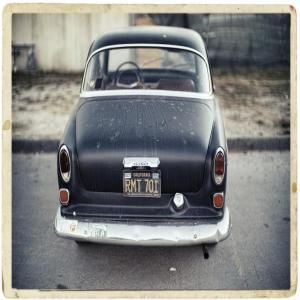Vehicle-registration-plate: (124, 169, 162, 198)
